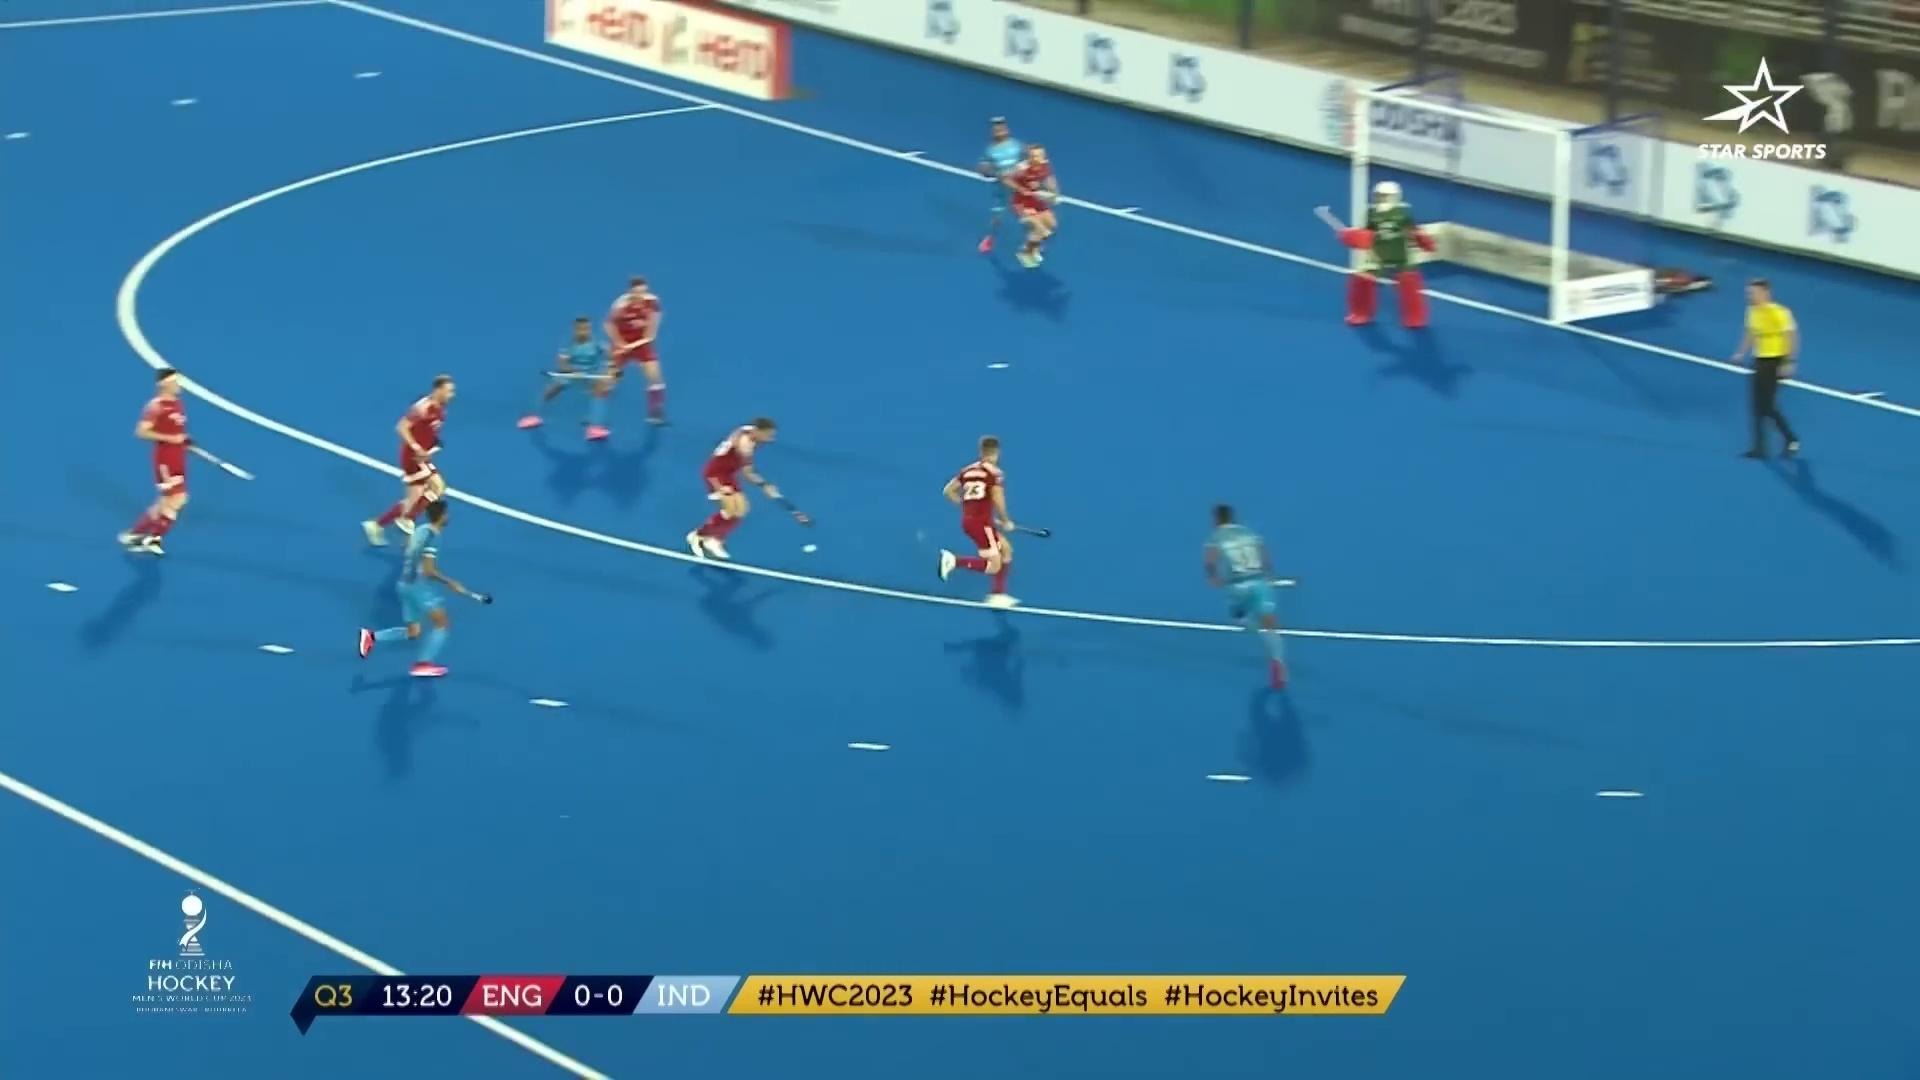ball: (786, 534, 833, 570)
